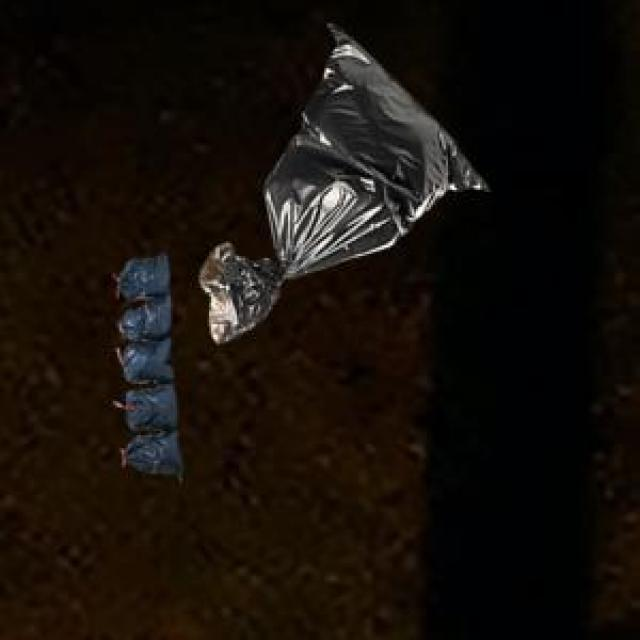Trashbag: (200, 25, 498, 347), (122, 427, 191, 482), (121, 380, 186, 431), (120, 334, 183, 384), (119, 249, 174, 301), (120, 293, 178, 341)
